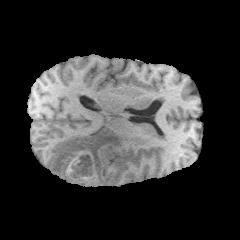glioma: (51, 128, 128, 186)
